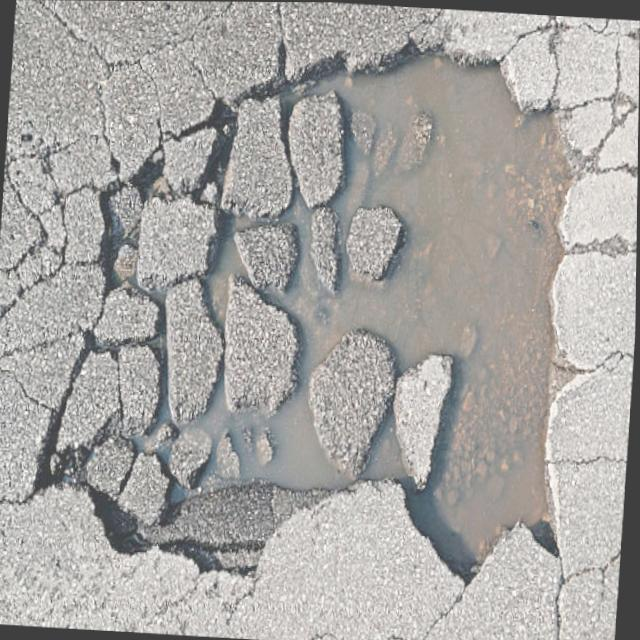Pothole: (37, 50, 569, 573)
